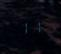one: (19, 20, 29, 34), (30, 20, 40, 33)
